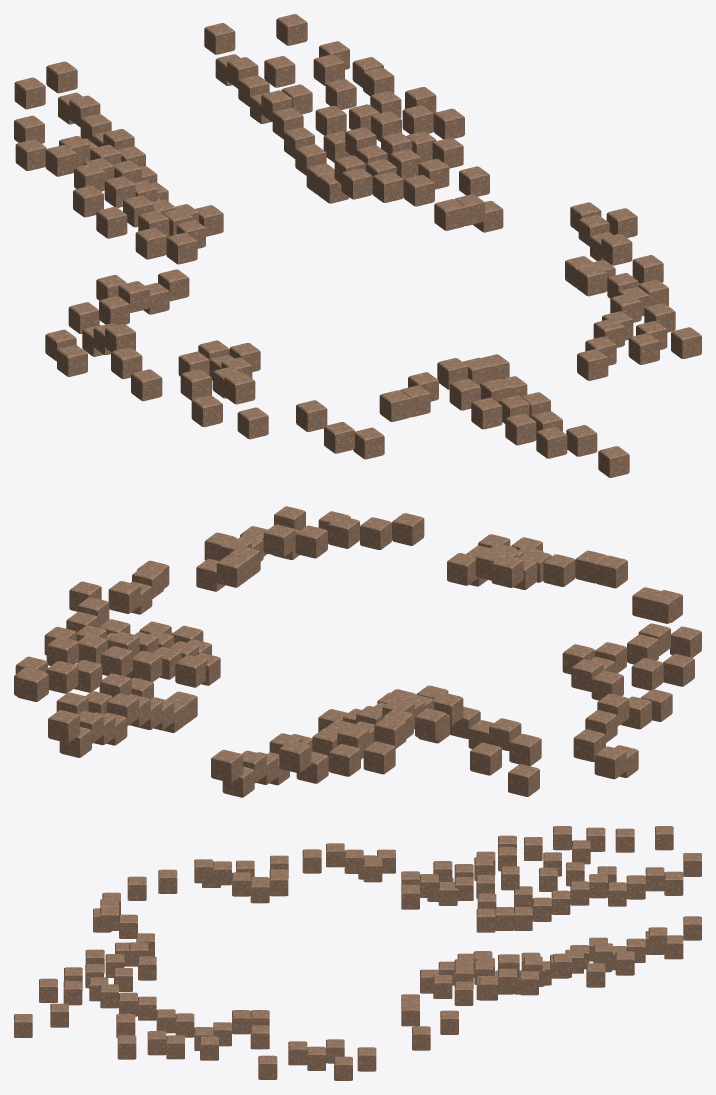
Rendered from StadiumFloatingRocks.fbx.
The picture shows the model from 3 angles, top to bottom: view 1: azimuth 30°, elevation 25°; view 2: azimuth 150°, elevation 25°; view 3: azimuth 270°, elevation 25°; orthographic projection. The views are drawn at different scales.
Parts seen in each view (by area): view 1: Ground 19.011, Ground 21.003, Ground 92.019, Ground 43.031, Ground 43.142, Ground 76.008, Ground 43.147, Ground 92.001, Ground 19.005, Ground 19.007, Ground 43.030, Ground 43.123 (+43 smaller); view 2: Ground 43.030, Ground 92.001, Ground 92.008, Ground 43.075, Ground 43.103, Ground 43.148, Ground 110.009, Ground 21.001, Ground 43.074, Ground 43.069, Ground 43.145, Ground 43.111 (+63 smaller); view 3: Ground 43.136, Ground 43.170, Ground 92.019, Ground 110.020, Ground 43.031, Ground 43.065, Ground 43.112, Ground 43.127, Ground 43.134, Ground 43.171, Ground 43.174, Ground 92.017 (+65 smaller).
Boxes of the visible parts, x1,y1,x2,y2 form: Ground 19.011: (598, 446, 629, 477); Ground 21.003: (471, 397, 502, 429); Ground 92.019: (276, 14, 307, 45); Ground 43.031: (224, 372, 255, 404); Ground 43.142: (131, 369, 162, 401); Ground 76.008: (403, 174, 434, 206); Ground 43.147: (237, 407, 268, 439); Ground 92.001: (14, 77, 45, 109); Ground 19.005: (505, 413, 536, 445); Ground 19.007: (536, 427, 567, 458); Ground 43.030: (379, 390, 410, 421); Ground 43.123: (434, 199, 465, 230); Ground 43.030: (595, 555, 627, 588); Ground 92.001: (279, 740, 311, 773); Ground 92.008: (415, 708, 447, 741); Ground 43.075: (295, 525, 327, 558); Ground 43.103: (392, 513, 424, 545); Ground 43.148: (647, 591, 679, 623); Ground 110.009: (363, 741, 395, 774); Ground 21.001: (491, 555, 523, 587); Ground 43.074: (263, 524, 295, 557); Ground 43.069: (543, 554, 575, 586); Ground 43.145: (631, 658, 663, 690); Ground 43.111: (216, 555, 248, 587); Ground 43.136: (357, 1047, 376, 1071); Ground 43.170: (645, 867, 664, 891); Ground 92.019: (648, 927, 667, 951); Ground 110.020: (586, 963, 605, 987); Ground 43.031: (194, 859, 213, 883); Ground 43.065: (302, 849, 321, 873); Ground 43.112: (250, 1025, 269, 1049); Ground 43.127: (288, 1041, 307, 1065); Ground 43.134: (117, 1035, 136, 1059); Ground 43.171: (626, 875, 645, 899); Ground 43.174: (570, 881, 589, 905); Ground 92.017: (615, 951, 634, 975).
Bounding box in the file's own units: 2812 × 756 × 3659.
1 material, 1 textured.
